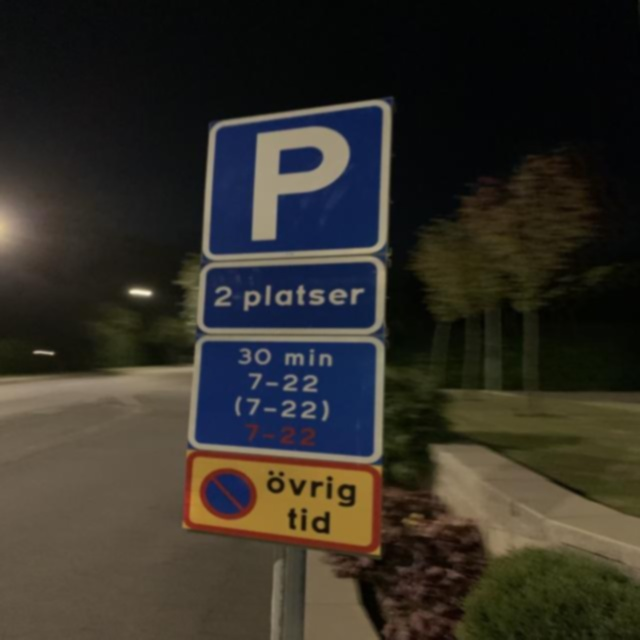P-skylt: (200, 95, 395, 262)
